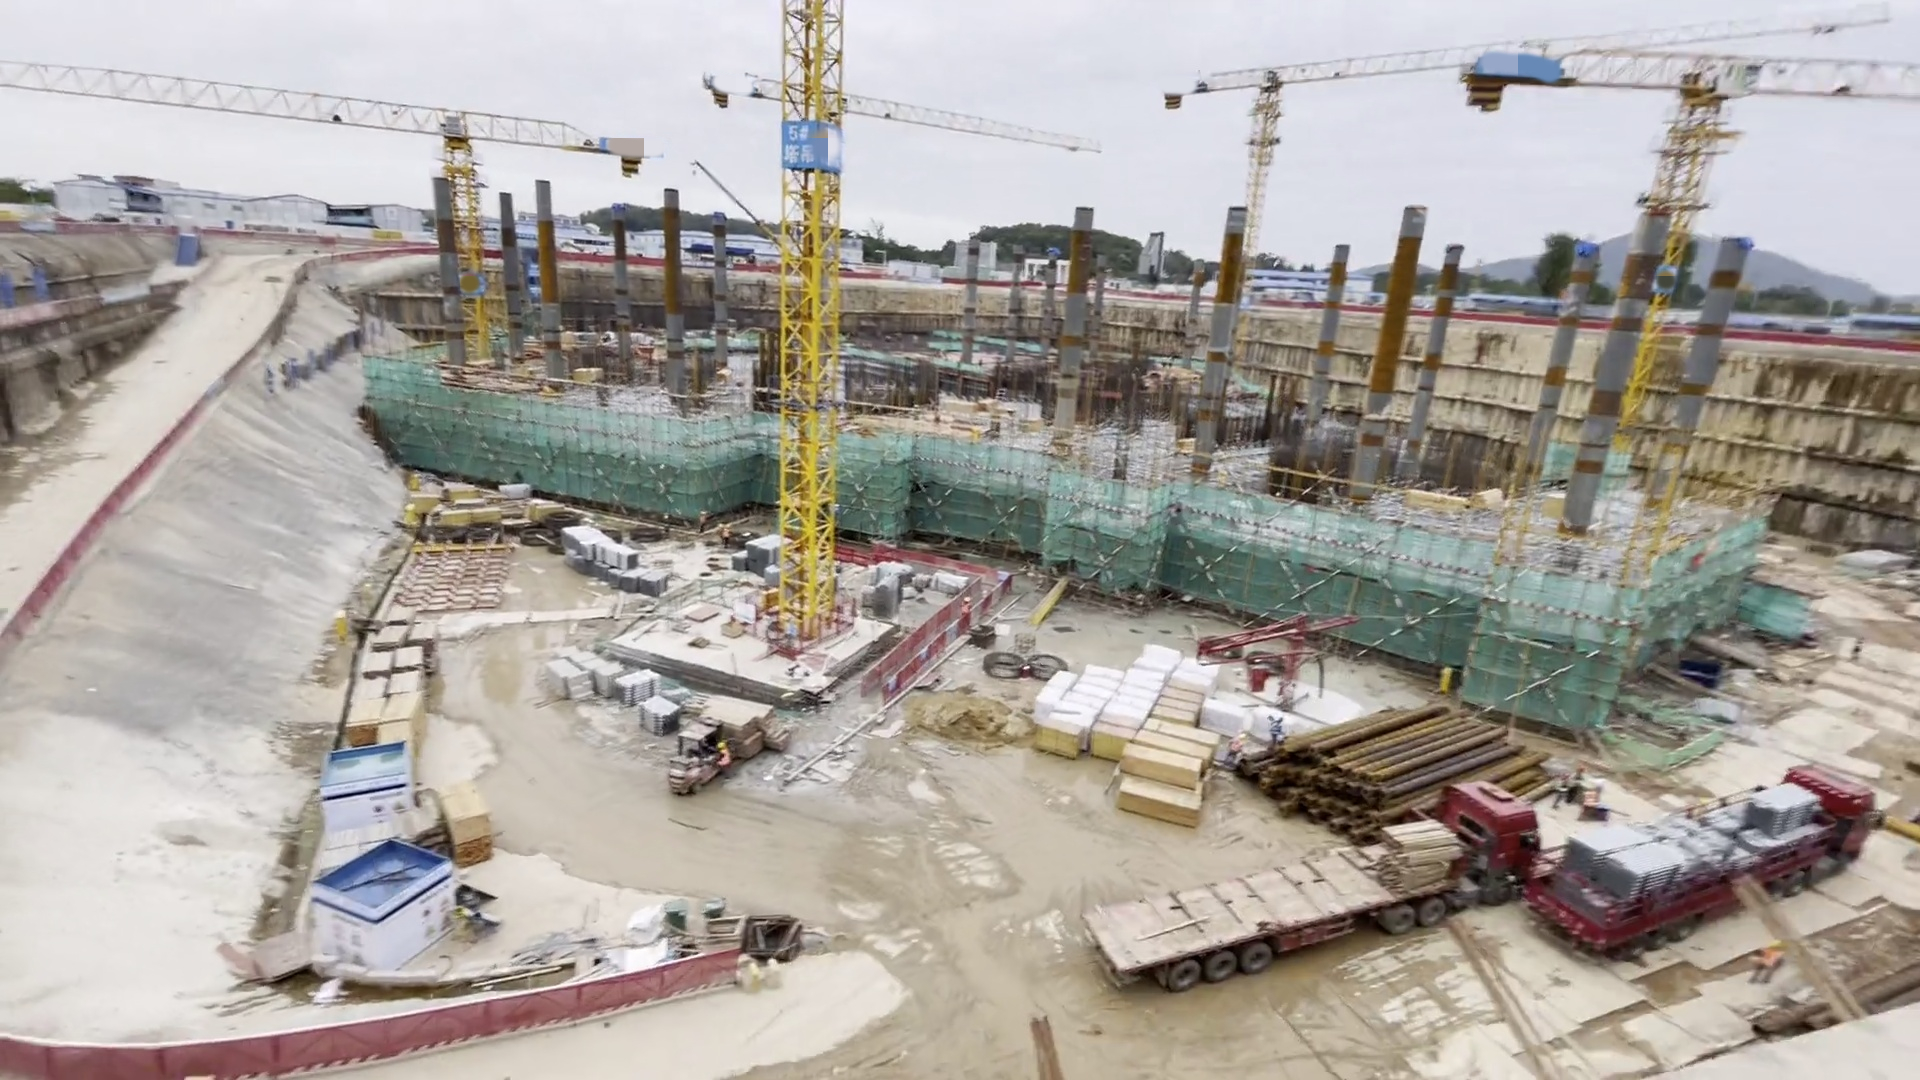board: (1156, 673, 1204, 723), (1089, 713, 1139, 760), (1034, 717, 1086, 760), (434, 501, 510, 527), (409, 487, 444, 518), (442, 483, 486, 505)
fence: (19, 962, 742, 1080)
helmet: (716, 741, 727, 747)
person: (709, 741, 735, 782), (1224, 727, 1245, 770), (1569, 762, 1587, 807), (1267, 713, 1286, 747), (1556, 770, 1570, 810), (693, 508, 710, 538), (720, 523, 734, 550), (963, 597, 974, 615)
scaffold: (1566, 824, 1689, 898), (1749, 785, 1817, 837), (637, 697, 684, 737), (616, 669, 659, 705)
vest: (717, 750, 731, 765), (1271, 723, 1282, 734), (961, 603, 972, 613)
wood: (1116, 726, 1219, 820), (1379, 820, 1461, 894), (712, 693, 786, 753), (439, 784, 495, 863)
